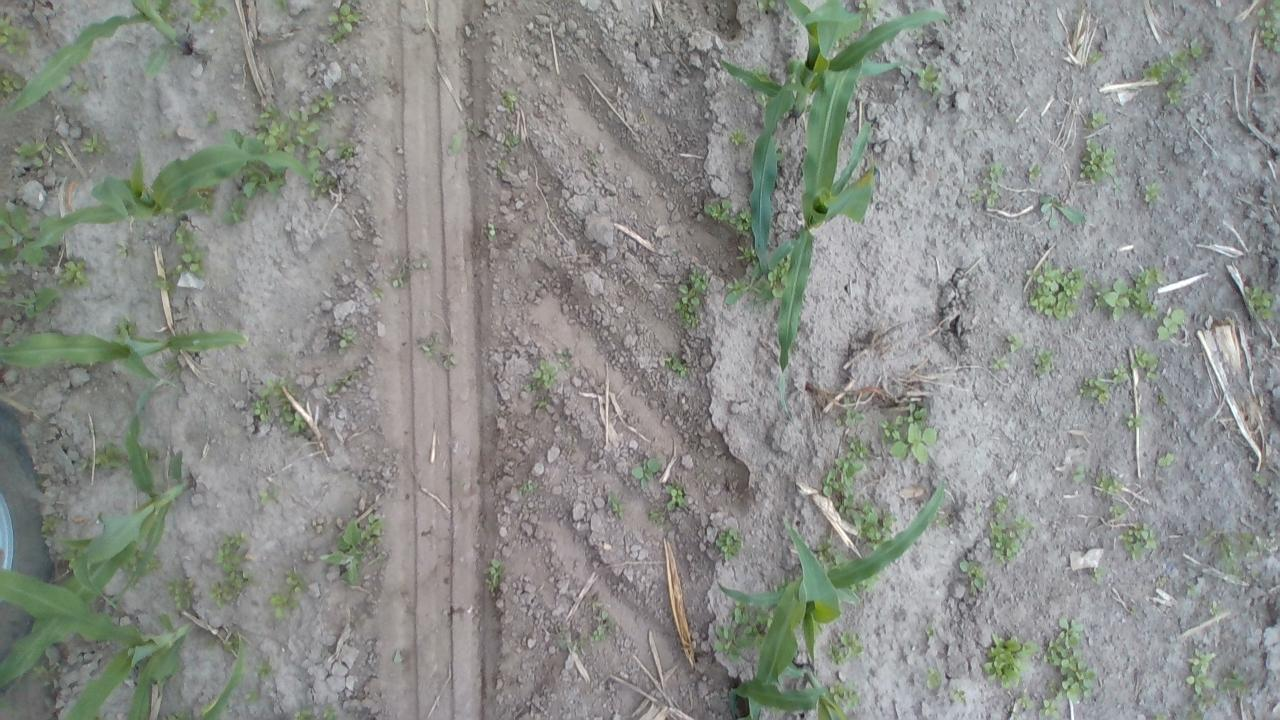Maize: (721, 0, 944, 289), (2, 377, 198, 692), (749, 58, 902, 422), (718, 479, 946, 685), (13, 142, 315, 266), (0, 569, 194, 720), (6, 4, 202, 110), (0, 320, 248, 382), (731, 666, 840, 720), (198, 632, 240, 718)
Weeds: (256, 94, 340, 152), (1044, 616, 1103, 696), (1138, 40, 1206, 106), (326, 513, 386, 583), (876, 404, 942, 466), (1026, 260, 1091, 322), (1098, 266, 1166, 322), (0, 202, 52, 274), (222, 178, 286, 231), (252, 377, 309, 436), (983, 632, 1039, 692), (710, 601, 760, 665), (823, 432, 868, 499), (674, 262, 712, 333), (838, 500, 894, 546), (173, 220, 213, 278), (1076, 362, 1130, 404), (269, 572, 307, 623), (968, 161, 1002, 212), (80, 446, 134, 478), (646, 484, 688, 524), (1186, 643, 1216, 698), (1082, 136, 1116, 184), (1120, 523, 1162, 561), (17, 286, 60, 322), (322, 1, 357, 44), (826, 627, 864, 666), (1038, 197, 1084, 229), (524, 360, 566, 395), (242, 662, 273, 707), (706, 197, 749, 229), (388, 258, 430, 290), (1200, 528, 1232, 570), (586, 598, 615, 644), (217, 530, 252, 568), (165, 573, 199, 612), (1257, 0, 1280, 56), (210, 571, 250, 603), (990, 520, 1018, 565), (711, 526, 748, 560), (1, 19, 34, 57), (1092, 465, 1132, 496), (302, 140, 328, 187), (10, 140, 48, 172), (630, 456, 662, 493), (1246, 286, 1277, 324), (186, 1, 229, 28), (1152, 309, 1184, 343), (1217, 661, 1246, 697), (33, 660, 62, 695), (292, 700, 340, 720), (1130, 346, 1160, 378), (959, 560, 987, 594), (809, 534, 840, 564), (828, 678, 862, 703), (1236, 532, 1270, 556), (486, 560, 508, 596), (917, 62, 941, 94), (57, 259, 88, 283), (446, 126, 469, 158), (1038, 697, 1070, 720), (835, 407, 867, 429), (602, 490, 624, 522), (723, 282, 750, 308), (767, 267, 788, 298), (858, 0, 882, 25), (331, 326, 358, 348), (735, 240, 759, 264), (146, 276, 178, 294), (328, 375, 354, 397), (36, 517, 62, 539), (1138, 182, 1164, 204), (0, 68, 22, 93), (1031, 351, 1053, 376), (990, 492, 1016, 513), (78, 134, 102, 156), (336, 140, 358, 164), (416, 333, 440, 355), (116, 320, 141, 340), (990, 352, 1014, 372), (669, 353, 690, 375), (1155, 447, 1177, 468), (1107, 506, 1128, 528), (196, 192, 213, 219), (260, 487, 279, 511), (142, 556, 166, 574), (1084, 110, 1108, 128), (926, 668, 943, 692), (1010, 692, 1030, 712), (502, 126, 520, 148), (68, 82, 94, 96), (1184, 578, 1204, 596), (730, 130, 749, 148), (1006, 334, 1026, 351), (948, 688, 969, 704), (754, 0, 784, 11), (500, 90, 518, 108), (440, 348, 456, 368), (158, 712, 198, 720), (1026, 161, 1042, 181), (369, 287, 384, 307), (1070, 464, 1084, 485), (204, 111, 222, 126), (1154, 385, 1168, 403), (1126, 412, 1144, 426), (1088, 48, 1104, 63), (1186, 709, 1206, 720), (1210, 599, 1224, 614), (560, 350, 571, 369), (1016, 516, 1028, 532), (520, 481, 536, 492), (924, 623, 937, 636), (1090, 568, 1104, 580), (270, 0, 290, 8), (534, 397, 548, 408), (158, 130, 172, 139), (1152, 714, 1172, 720)
